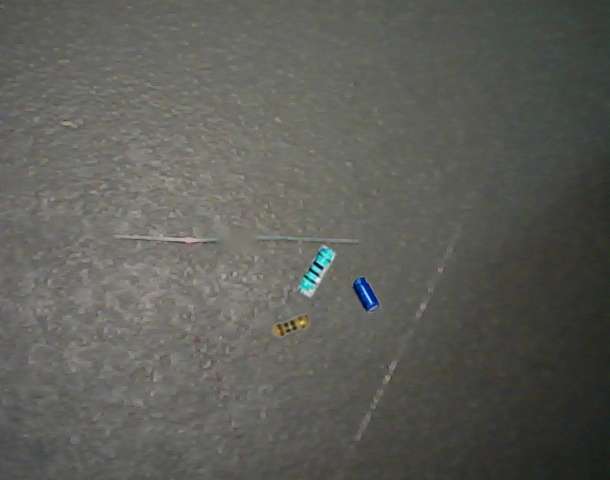capacitor: (353, 277, 380, 312)
resistor: (297, 245, 337, 297), (272, 314, 310, 337)
